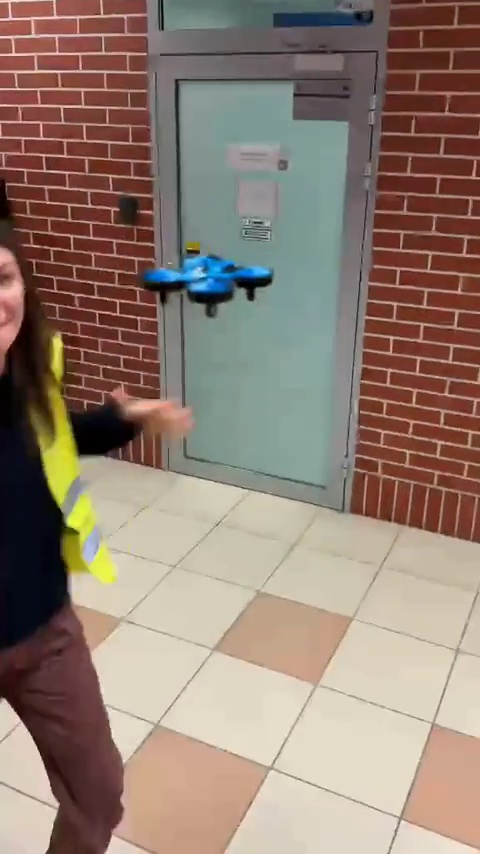drone: (137, 249, 270, 309)
vest: (0, 217, 182, 854)
